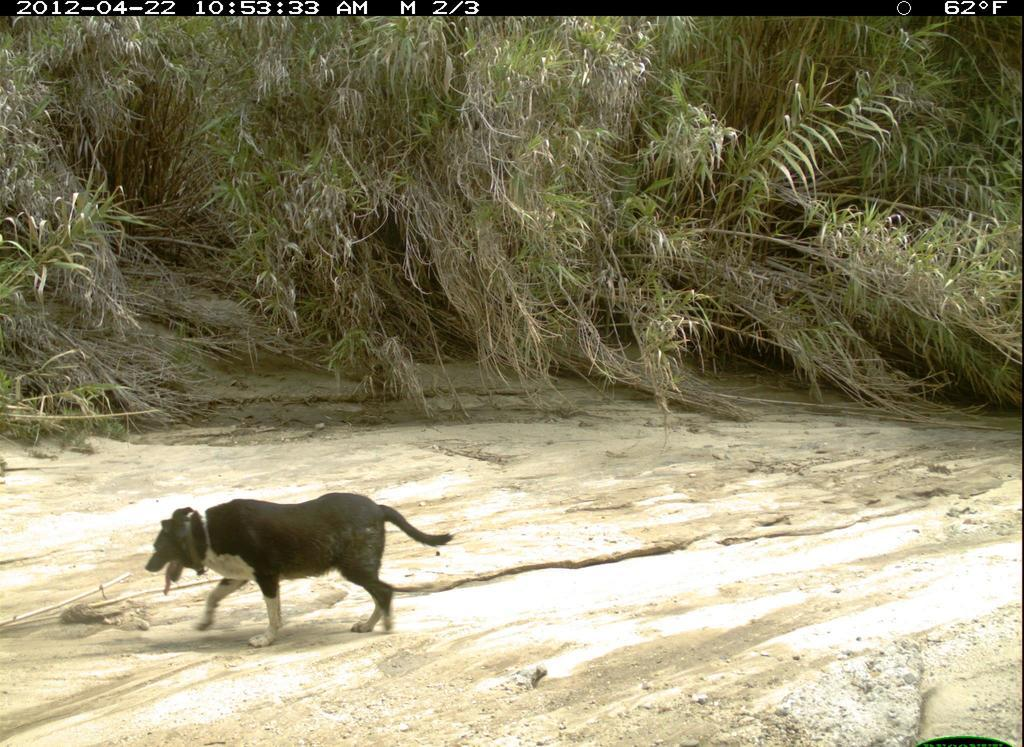dog: (126, 486, 474, 651)
